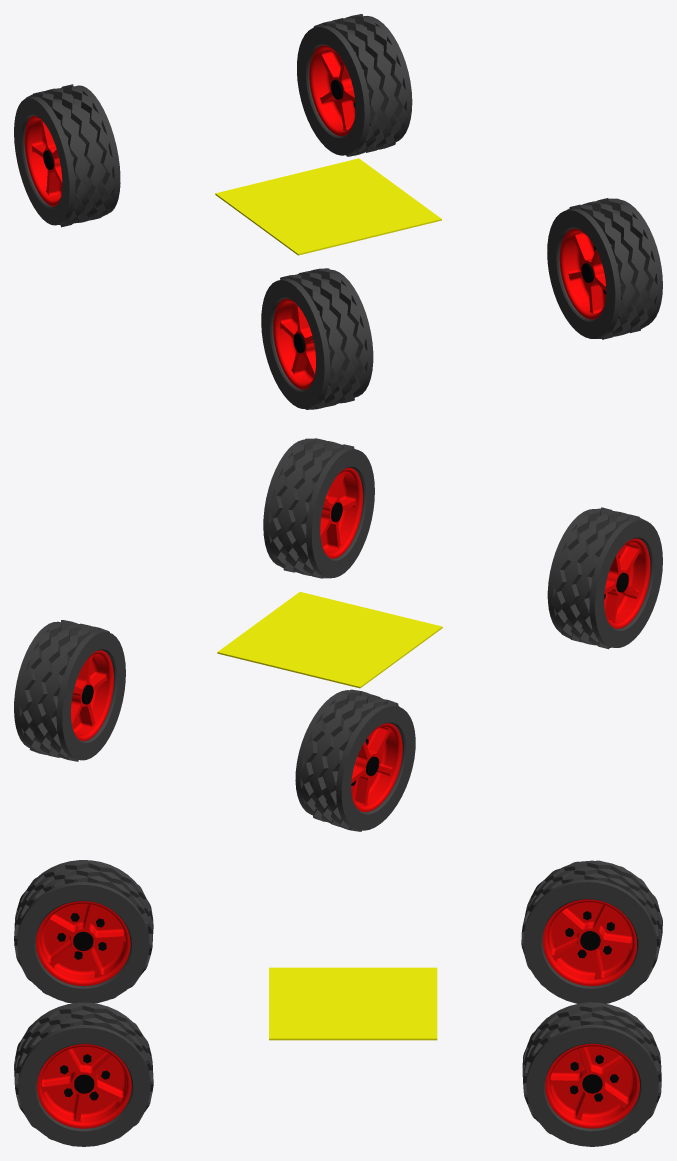
The model's file is four-wheeled-chassis.glb.
3 renders of one model, top to bottom at view 1: azimuth 30°, elevation 25°; view 2: azimuth 150°, elevation 25°; view 3: azimuth 270°, elevation 25°, orthographic. The views are drawn at different scales.
Visible parts, largest first — view 1: Body164 (×4), Face, Body2 (×4); view 2: Body164 (×4), Face, Body2 (×4); view 3: Body164 (×4), Body2 (×4), Face.
Boxes of the visible parts, x1,y1,x2,y2 form: Body164 (×4): (14, 14, 662, 409); Face: (215, 158, 441, 255); Body2 (×4): (24, 45, 606, 389); Body164 (×4): (14, 438, 662, 831); Face: (217, 592, 442, 688); Body2 (×4): (71, 467, 650, 812); Body164 (×4): (14, 860, 662, 1146); Body2 (×4): (36, 899, 639, 1128); Face: (269, 967, 437, 1040).
Bounding box in the file's own units: 2.38 × 0.8326 × 3.86.
